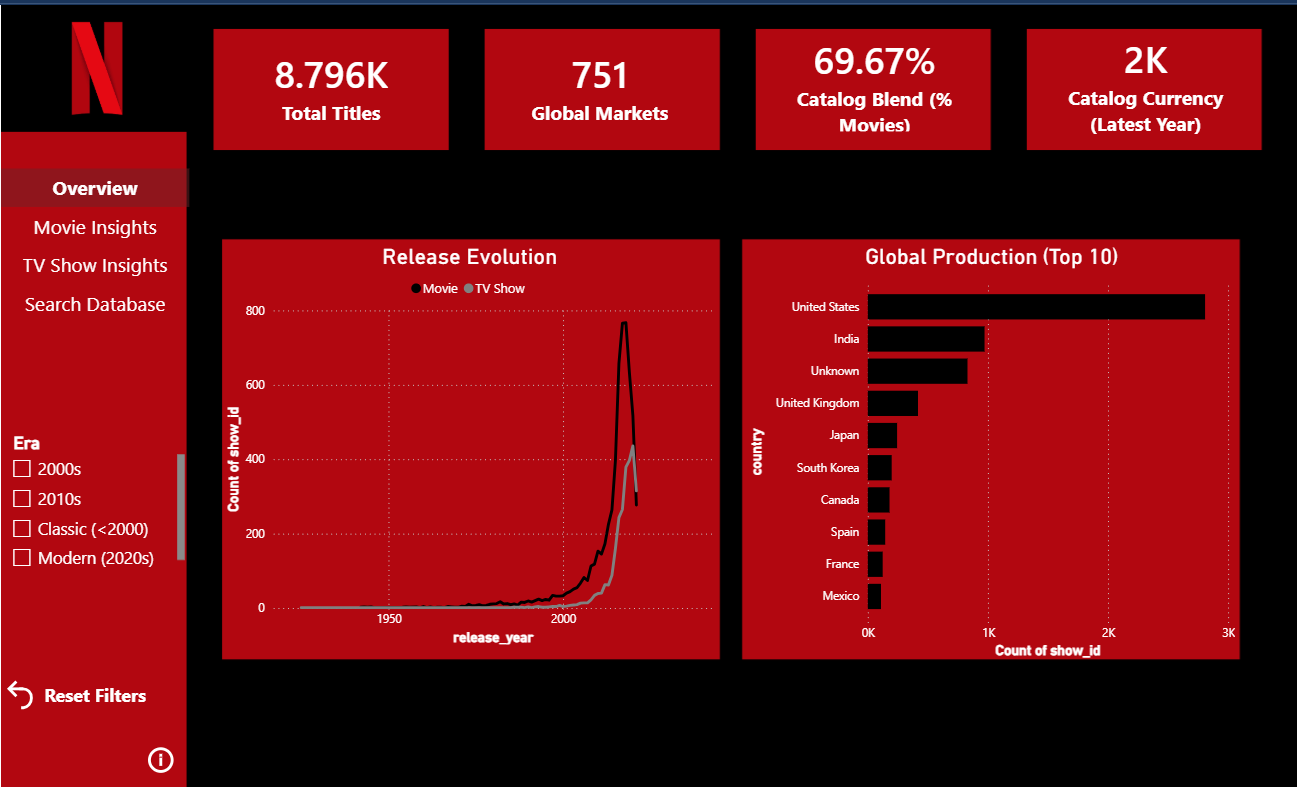

The dashboard page shown, as its layout file describes it:
{"tool":"powerbi","page":{"name":"Overview","canvas":[1350,820],"ordinal":0},"visuals":[{"type":"actionButton","box":[0,290,196,40],"z":0},{"type":"actionButton","box":[0,210,196,40],"z":1000},{"type":"actionButton","box":[0,250,196,40],"z":2000},{"type":"actionButton","box":[0,170,196,40],"z":3000},{"type":"actionButton","box":[0,698,196,40],"z":4000},{"type":"cardVisual","fields":{"Data":["Count(cleaned_netflix_titles.show_id)"]},"box":[222,24,244,122],"z":5000},{"type":"cardVisual","fields":{"Data":["Count(cleaned_netflix_titles.country)"]},"box":[504,22,238,126],"z":6000},{"type":"lineChart","title":"Release Evolution","fields":{"Category":["cleaned_netflix_titles.release_year"],"Y":["CountNonNull(cleaned_netflix_titles.show_id)"],"Series":["cleaned_netflix_titles.type"]},"box":[228,248,520,422],"z":7000},{"type":"clusteredBarChart","title":"Global Production (Top 10)","fields":{"Y":["Count(cleaned_netflix_titles.show_id)"],"Category":["cleaned_netflix_titles.country"]},"box":[772,248,516,436],"z":8000},{"type":"slicer","fields":{"Values":["cleaned_netflix_titles.Era"]},"box":[0,440,196,154],"z":9000},{"type":"actionButton","box":[148,766,36,38],"z":11000},{"type":"cardVisual","fields":{"Data":["cleaned_netflix_titles.Movie %"]},"box":[788,18,242,130],"z":12000},{"type":"cardVisual","fields":{"Data":["Max(cleaned_netflix_titles.release_year)"]},"box":[1070,10,244,146],"z":13000},{"type":"image","box":[0,0,196,132],"z":14000}]}

Visuals, with their boxes in screenshot pixels (x1, y1, x2, y2), scaled from the page's 1350x820 canvas onto the 1297x787 screenshot:
actionButton: <bbox>0, 278, 188, 317</bbox>
actionButton: <bbox>0, 202, 188, 240</bbox>
actionButton: <bbox>0, 240, 188, 278</bbox>
actionButton: <bbox>0, 163, 188, 202</bbox>
actionButton: <bbox>0, 670, 188, 708</bbox>
cardVisual - Count(cleaned_netflix_titles.show_id): <bbox>213, 23, 448, 140</bbox>
cardVisual - Count(cleaned_netflix_titles.country): <bbox>484, 21, 713, 142</bbox>
"Release Evolution" lineChart: <bbox>219, 238, 719, 643</bbox>
"Global Production (Top 10)" clusteredBarChart: <bbox>742, 238, 1237, 656</bbox>
slicer - cleaned_netflix_titles.Era: <bbox>0, 422, 188, 570</bbox>
actionButton: <bbox>142, 735, 177, 772</bbox>
cardVisual - cleaned_netflix_titles.Movie %: <bbox>757, 17, 990, 142</bbox>
cardVisual - Max(cleaned_netflix_titles.release_year): <bbox>1028, 10, 1262, 150</bbox>
image: <bbox>0, 0, 188, 127</bbox>
